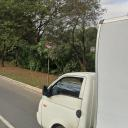speed_limit_40: (46, 41, 54, 49)
